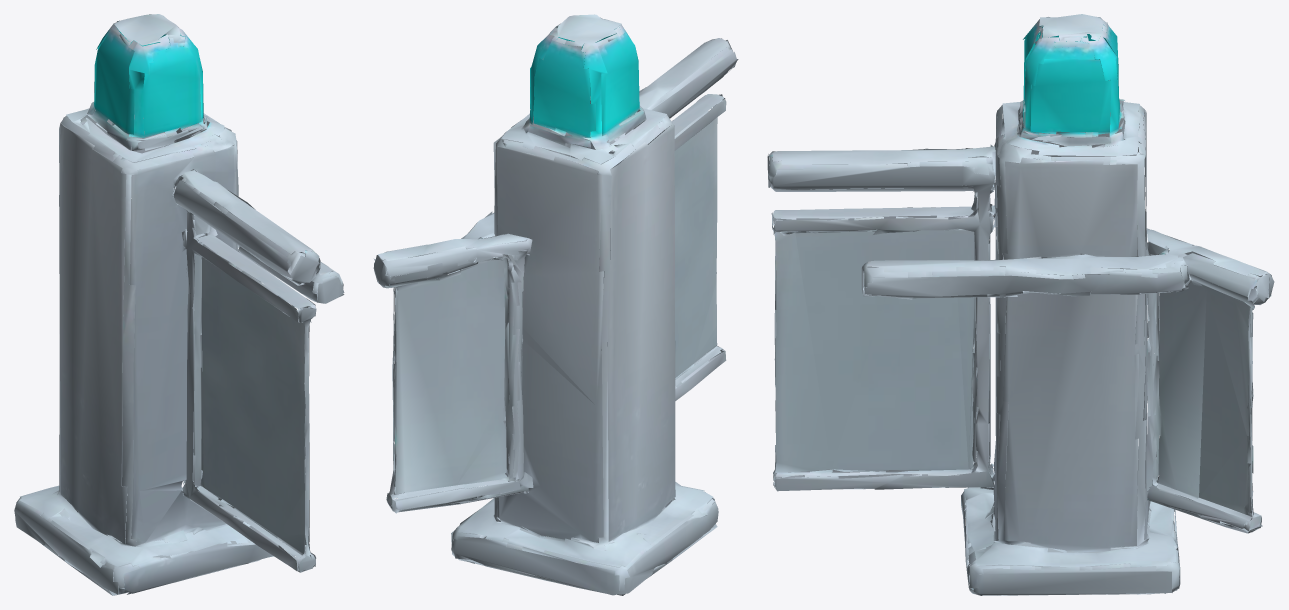
The model's file is ticketGates.glb.
3 views of the same model, side by side, from view 1: azimuth 30°, elevation 25°; view 2: azimuth 150°, elevation 25°; view 3: azimuth 270°, elevation 25° (orthographic). The views are drawn at different scales.
Parts seen in each view (by area): view 1: ticketGates; view 2: ticketGates; view 3: ticketGates.
Boxes of the visible parts, x1,y1,x2,y2 form: ticketGates: [14, 14, 344, 595]; ticketGates: [373, 14, 738, 595]; ticketGates: [767, 14, 1274, 595].
Size of the model in its own units: 0.3864 by 0.9015 by 0.7802.
1 material, 1 textured.
